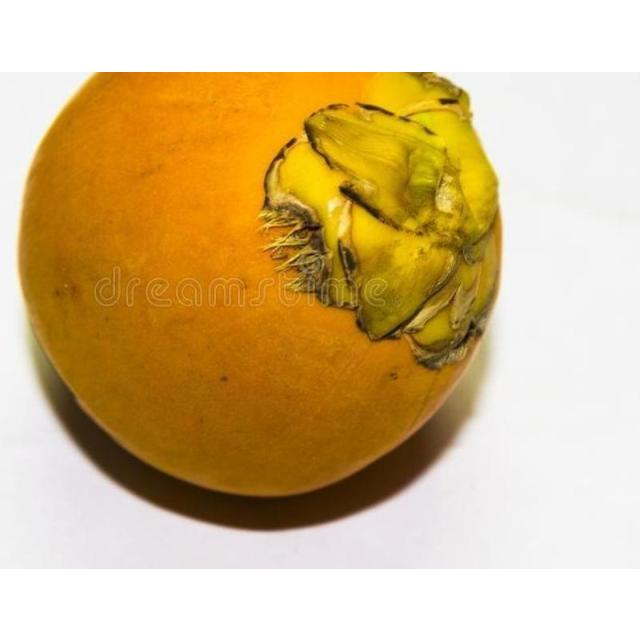good: (16, 71, 505, 503)
